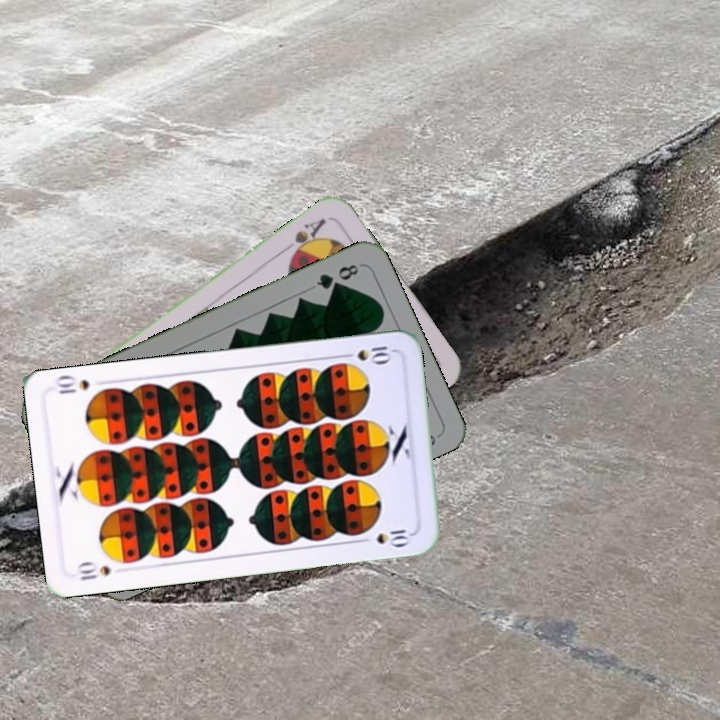G8: (312, 260, 361, 292)
S10: (336, 342, 394, 366), (73, 558, 113, 583)
SA: (286, 214, 329, 261)
